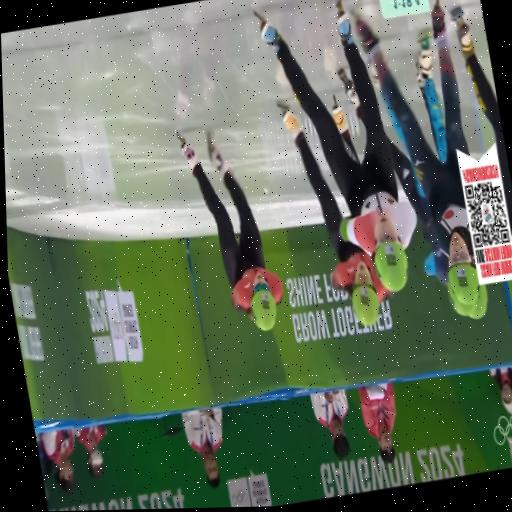Skater: (257, 0, 417, 291), (356, 0, 480, 304), (279, 105, 386, 325), (178, 132, 283, 329), (416, 30, 447, 162)
